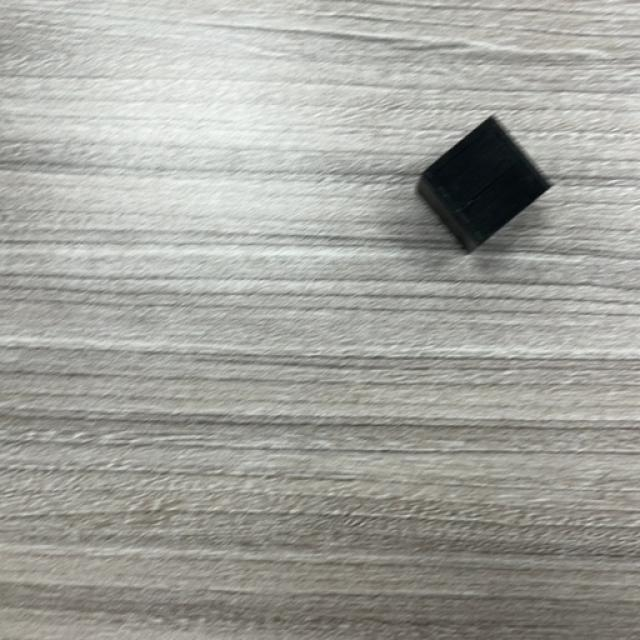Negro: (415, 116, 554, 255)
